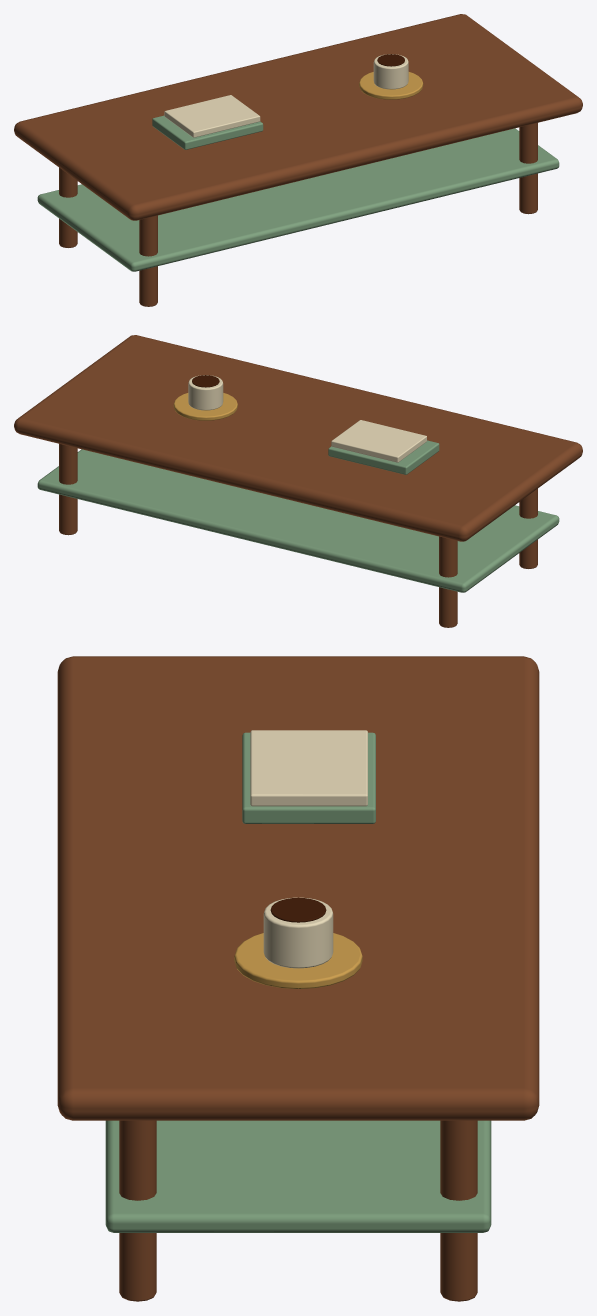
File: coffee_table.glb
The picture shows the model from 3 angles, top to bottom: view 1: azimuth 30°, elevation 25°; view 2: azimuth 150°, elevation 25°; view 3: azimuth 270°, elevation 25°; orthographic projection. The views are drawn at different scales.
Visible parts, largest first — view 1: Cube.001, Cube, Cube.003, Cube.002, Cylinder.001, Cylinder.003, Cylinder.004, Cylinder.005, Cylinder; view 2: Cube.001, Cube, Cube.003, Cube.002, Cylinder, Cylinder.002, Cylinder.004, Cylinder.005, Cylinder.001; view 3: Cube.001, Cube, Cube.003, Cylinder.002, Cylinder.003, Cylinder.004, Cube.002, Cylinder.005, Cylinder.006.
Part boxes in pixels (x1,y1,x2,y2): Cube.001: (14,14,582,220); Cube: (37,128,559,271); Cube.003: (164,95,260,137); Cube.002: (152,115,263,149); Cylinder.001: (139,215,157,306); Cylinder.003: (519,123,537,214); Cylinder.004: (359,72,423,99); Cylinder.005: (373,54,408,89); Cylinder: (59,167,77,247); Cube.001: (14,335,582,541); Cube: (37,449,559,592); Cube.003: (331,420,426,462); Cube.002: (328,440,439,474); Cylinder: (439,536,457,627); Cylinder.002: (59,444,77,535); Cylinder.004: (173,393,237,420); Cylinder.005: (188,375,223,410); Cylinder.001: (519,488,537,568); Cube.001: (57,656,539,1120); Cube: (105,1120,491,1232); Cube.003: (250,730,367,806); Cylinder.002: (440,1120,477,1301); Cylinder.003: (119,1120,156,1301); Cylinder.004: (234,933,362,988); Cube.002: (242,732,375,823); Cylinder.005: (263,897,333,968); Cylinder.006: (270,897,326,922).
Bounding box in the file's own units: 1.96 × 0.599 × 0.9.
